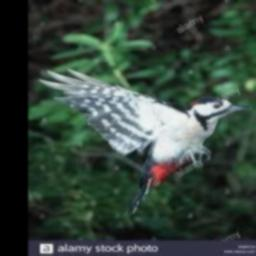Woodpecker: (40, 67, 252, 214)
